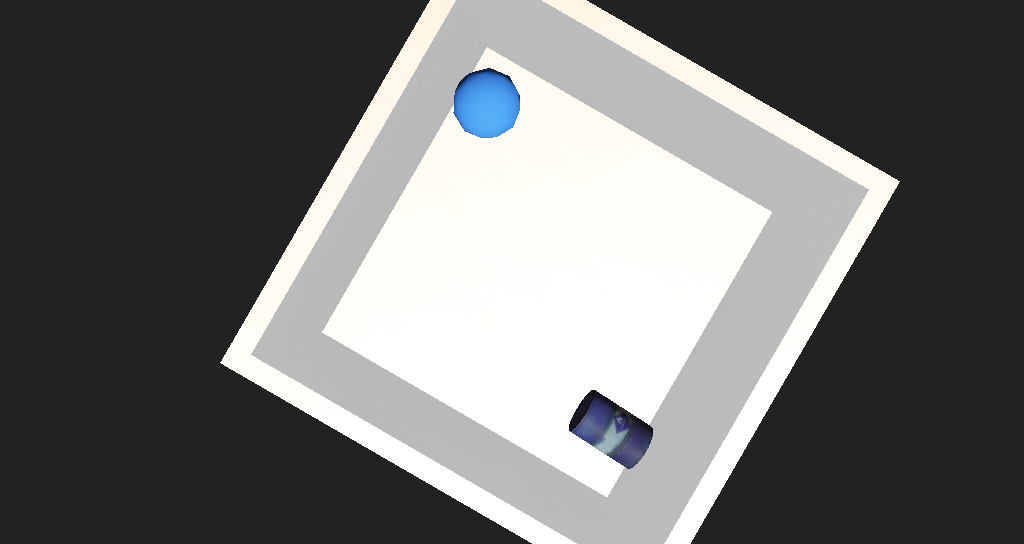cone: (384, 332, 438, 384)
sphere: (583, 160, 643, 203)
